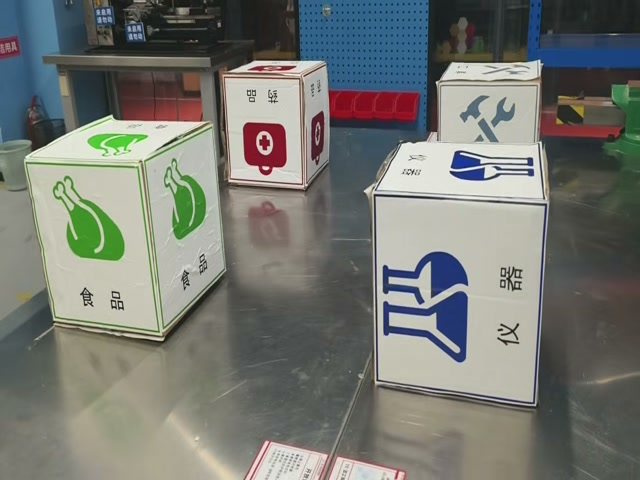Cube_food: (29, 117, 211, 170)
Cube_ins: (372, 142, 547, 198)
Cube_medicine: (223, 61, 326, 81)
Cube_tool: (437, 61, 541, 84)
